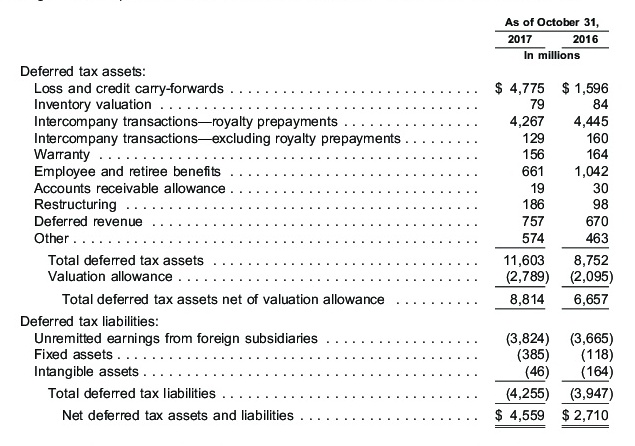table: (0, 0, 635, 446)
